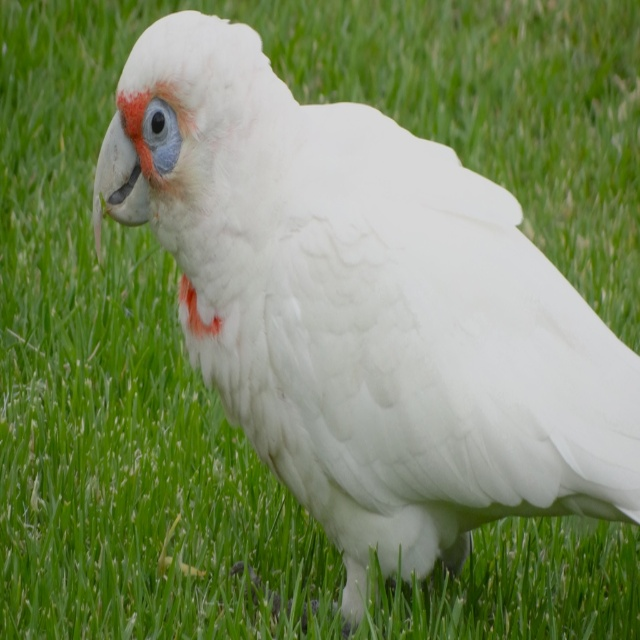Parrot: (92, 10, 640, 640)
